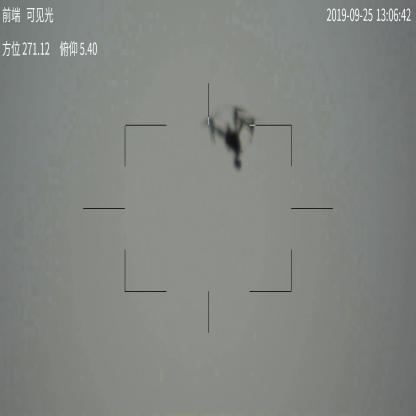uav: (201, 104, 256, 170)
